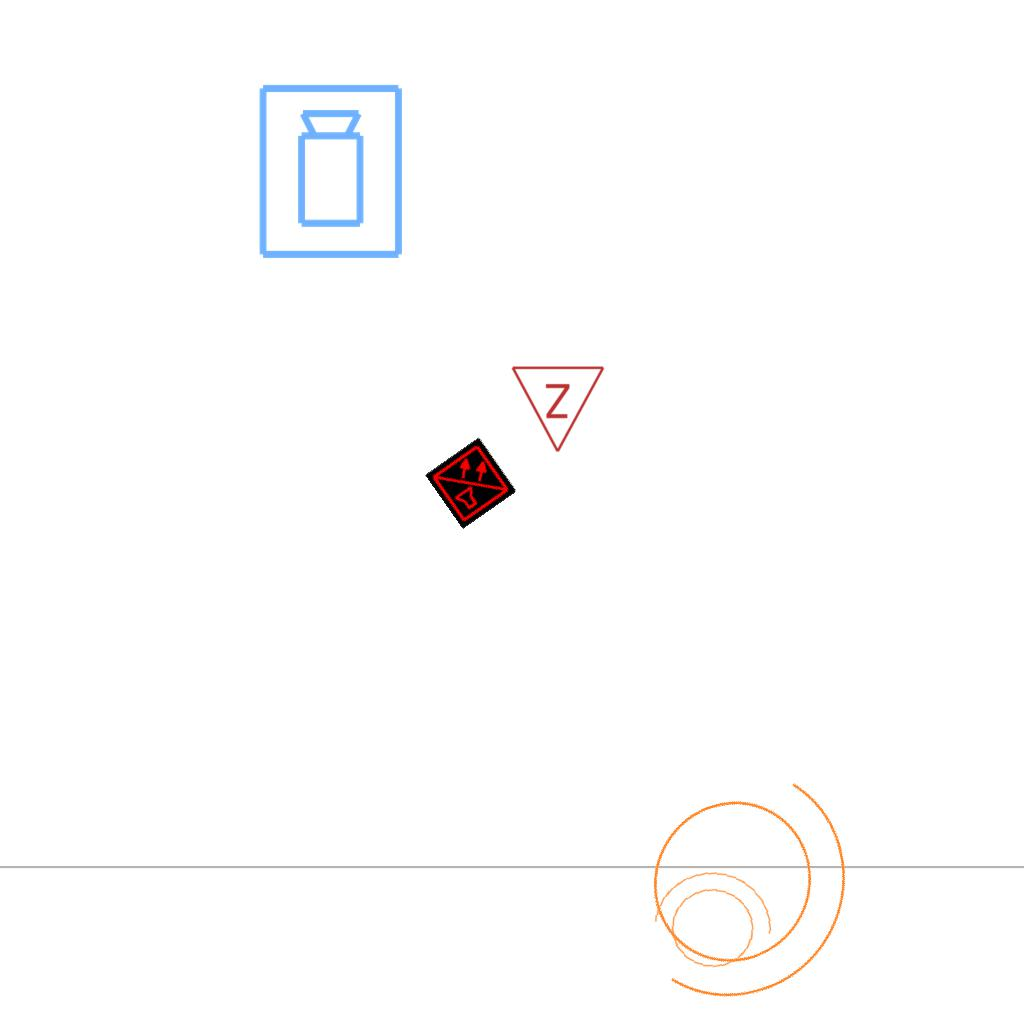KFO_Kamera_mit_Festobjektiv: (255, 81, 409, 263)
OKW_Multisensormelder_(Kombination_optischer_Rauch-Kahlenmonoxid_Waerme-Melder): (425, 437, 517, 529)
Scheinwerfer_fuer_Alarmbeleuchtung: (578, 709, 910, 1024), (638, 860, 782, 986)
Zimmersignalleuchte: (510, 359, 608, 459)
